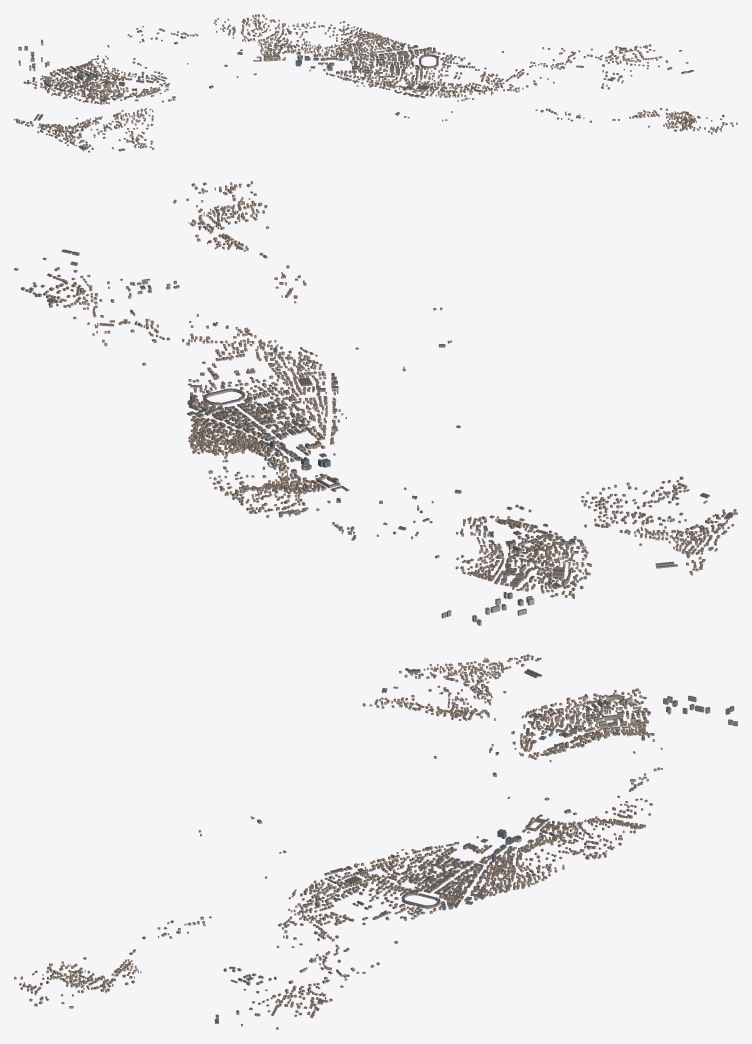
File: buildings.glb
3 renders of one model, top to bottom at view 1: azimuth 30°, elevation 25°; view 2: azimuth 150°, elevation 25°; view 3: azimuth 270°, elevation 25°, orthographic. The views are drawn at different scales.
Parts seen in each view (by area): view 1: chunk_1_-3, chunk_-6_-5, chunk_2_-2, chunk_1_-2, chunk_-7_-5, chunk_1_-1, chunk_2_-3, chunk_-1_-4, chunk_-6_-4, chunk_-1_-5, chunk_2_0, chunk_0_-3 (+11 smaller); view 2: chunk_2_-2, chunk_1_-3, chunk_-6_-5, chunk_1_-2, chunk_-7_-5, chunk_1_-1, chunk_-6_-4, chunk_2_-3, chunk_2_0; view 3: chunk_2_-2, chunk_1_-3, chunk_-6_-5, chunk_1_-2, chunk_1_-1, chunk_-7_-5, chunk_2_0, chunk_2_-3, chunk_-6_-4, chunk_-1_-4.
Boxes of the visible parts, <box> form: chunk_1_-3: <box>335,40,384,64</box>; chunk_-6_-5: <box>74,71,125,92</box>; chunk_2_-2: <box>386,49,438,69</box>; chunk_1_-2: <box>354,56,400,76</box>; chunk_-7_-5: <box>42,80,85,98</box>; chunk_1_-1: <box>372,69,417,90</box>; chunk_2_-3: <box>368,36,418,55</box>; chunk_-1_-4: <box>260,43,302,61</box>; chunk_-6_-4: <box>93,85,139,104</box>; chunk_-1_-5: <box>241,21,281,48</box>; chunk_2_0: <box>424,75,469,96</box>; chunk_0_-3: <box>304,49,345,71</box>; chunk_2_-2: <box>198,388,268,423</box>; chunk_1_-3: <box>214,423,286,451</box>; chunk_-6_-5: <box>488,539,555,573</box>; chunk_1_-2: <box>242,404,311,435</box>; chunk_-7_-5: <box>536,555,591,585</box>; chunk_1_-1: <box>268,387,334,416</box>; chunk_-6_-4: <box>517,525,576,553</box>; chunk_2_-3: <box>187,411,236,440</box>; chunk_2_0: <box>246,354,316,384</box>; chunk_2_-2: <box>401,880,467,908</box>; chunk_1_-3: <box>463,858,516,883</box>; chunk_-6_-5: <box>559,713,617,737</box>; chunk_1_-2: <box>413,860,468,882</box>; chunk_1_-1: <box>364,860,416,883</box>; chunk_-7_-5: <box>565,693,615,716</box>; chunk_2_0: <box>315,881,366,905</box>; chunk_2_-3: <box>463,878,515,904</box>; chunk_-6_-4: <box>520,712,565,736</box>; chunk_-1_-4: <box>513,817,566,842</box>.
Size of the model in its own units: 4461 by 205 by 3641.
